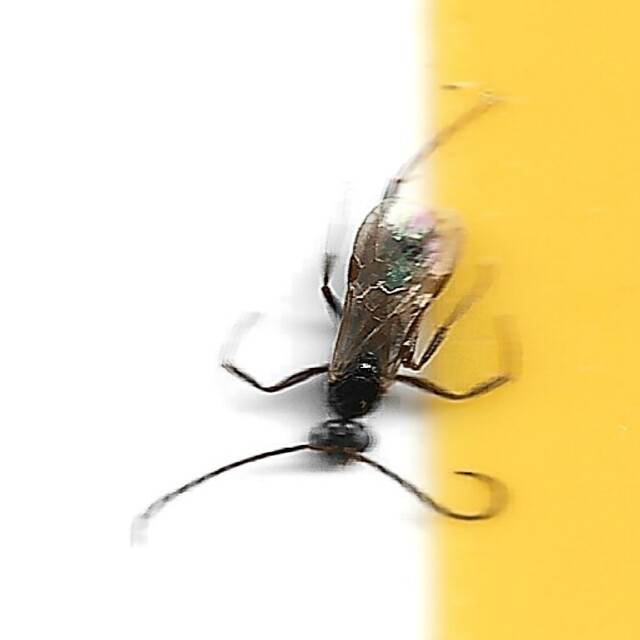Hymenoptera: (125, 89, 515, 551)
